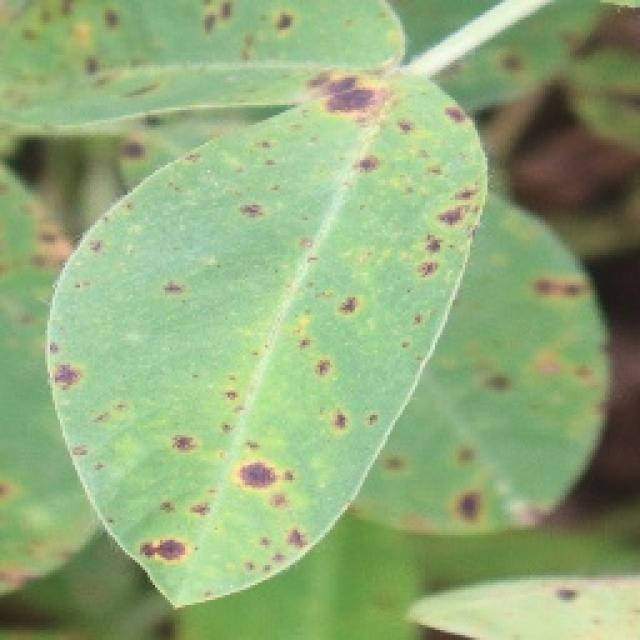Yellowish: (4, 0, 639, 640)
